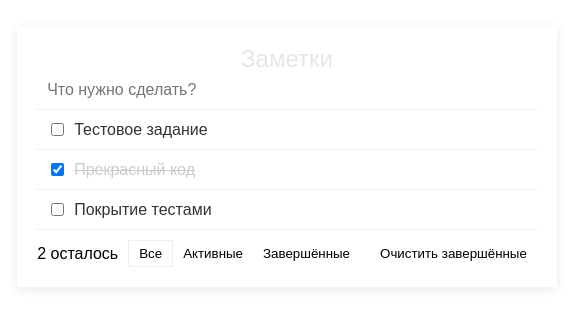
Test: TodoApp › Добавление новой задачи
Type "Новая задача" into the field with placeholder "Что нужно сделать?".
click(287, 90); type("Новая задача")  # box [37,71,537,110]
Then press Enter
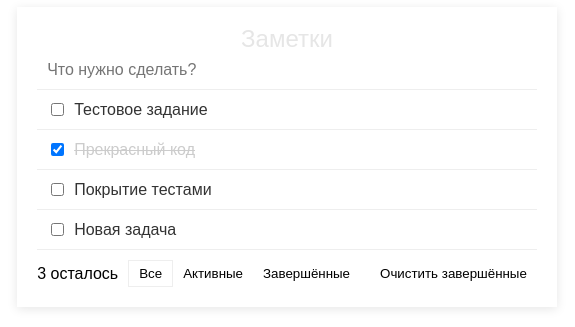
Now the list item "Новая задача" is shown, box [37,210,537,250]
Now the text "3 осталось" is shown, box [37,266,118,282]
